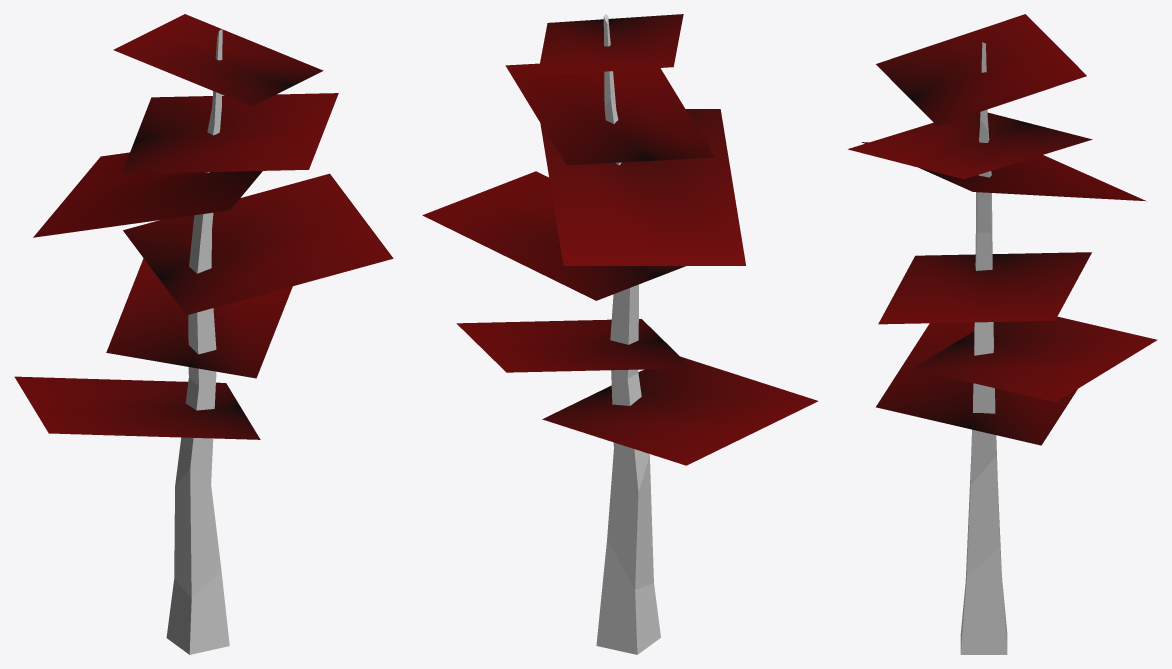
File: WideTree02.fbx
3 views of the same model, side by side, from view 1: azimuth 30°, elevation 25°; view 2: azimuth 150°, elevation 25°; view 3: azimuth 270°, elevation 25° (orthographic). The views are drawn at different scales.
Parts seen in each view (by area): view 1: LEAFES.001, TREE.001; view 2: LEAFES.001, TREE.001; view 3: LEAFES.001, TREE.001.
Part boxes in pixels (bbox=[...]): LEAFES.001: bbox=[14, 14, 393, 439]; TREE.001: bbox=[166, 29, 229, 654]; LEAFES.001: bbox=[422, 14, 818, 465]; TREE.001: bbox=[596, 14, 660, 654]; LEAFES.001: bbox=[848, 14, 1157, 445]; TREE.001: bbox=[960, 42, 1007, 654].
Size of the model in its own units: 1.44 by 2.49 by 1.14.
